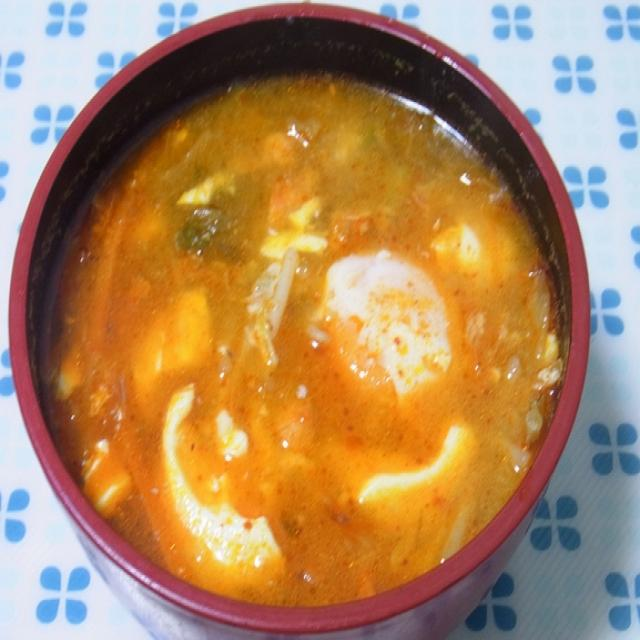汤锅炖物: (14, 13, 594, 626)
